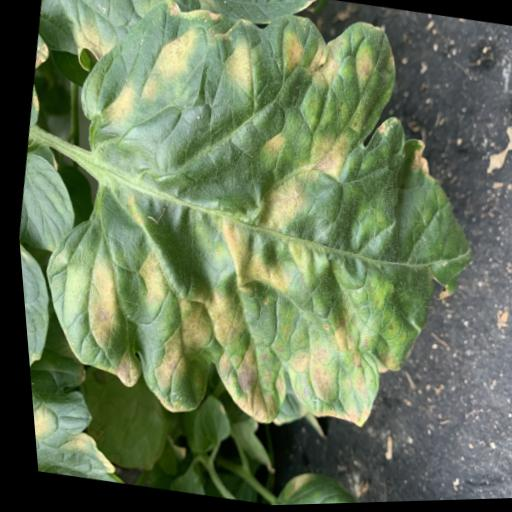Leaf Mold: (11, 0, 512, 462)
